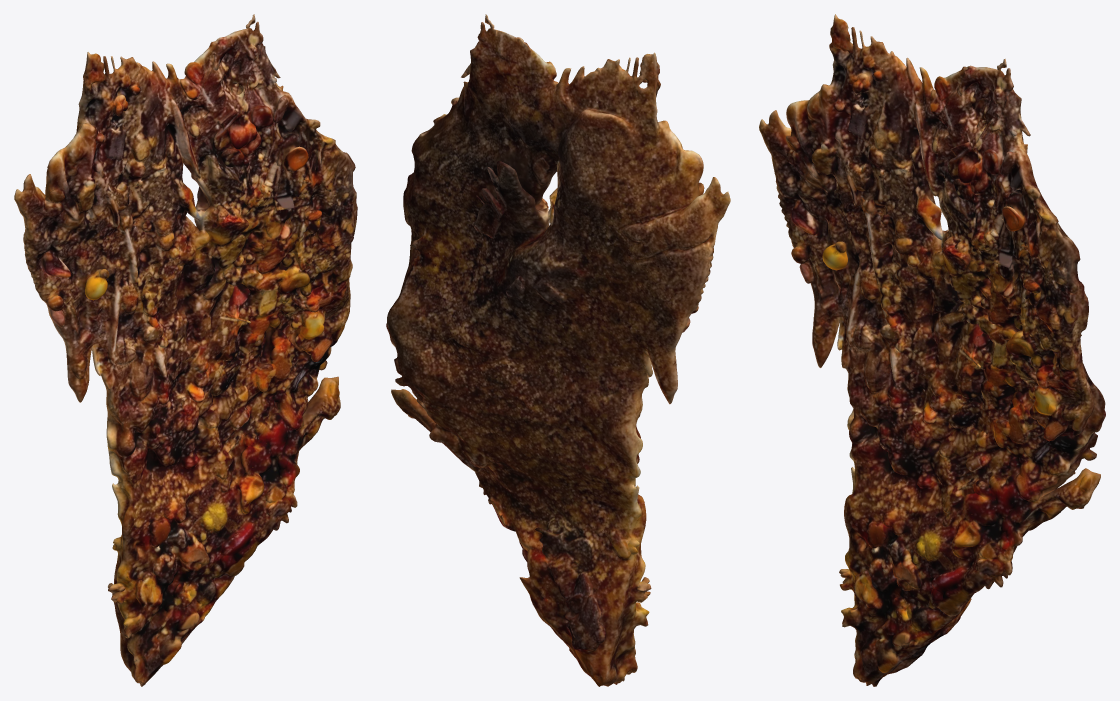
Rendered from jerky.glb.
3 renders of one model, left to right at view 1: azimuth 30°, elevation 25°; view 2: azimuth 150°, elevation 25°; view 3: azimuth 330°, elevation 25°, orthographic. The views are drawn at different scales.
Parts seen in each view (by area): view 1: geometry_0; view 2: geometry_0; view 3: geometry_0.
Boxes of the visible parts, left/top/right/bottom form: geometry_0: left=14, top=14, right=357, bottom=686; geometry_0: left=386, top=14, right=730, bottom=686; geometry_0: left=759, top=14, right=1105, bottom=686.
Size of the model in its own units: 0.5393 by 0.9839 by 0.1022.
1 material, 1 textured.
